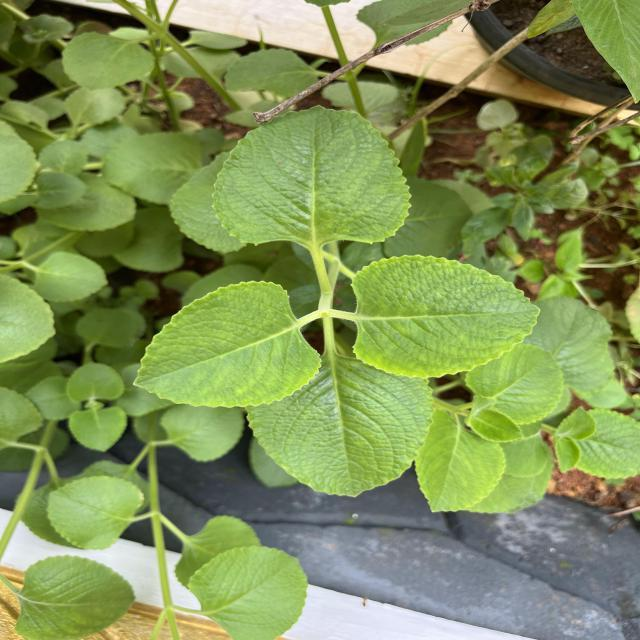Plectranthus barbatus: (212, 104, 414, 247), (132, 277, 324, 409), (350, 252, 541, 380), (245, 378, 435, 500), (188, 544, 311, 640), (13, 553, 138, 640), (413, 409, 507, 514), (524, 296, 614, 390), (464, 343, 564, 425), (46, 475, 146, 551), (159, 406, 246, 464), (574, 409, 640, 480), (67, 405, 129, 453), (66, 362, 126, 402), (469, 408, 524, 443), (556, 405, 597, 440)
